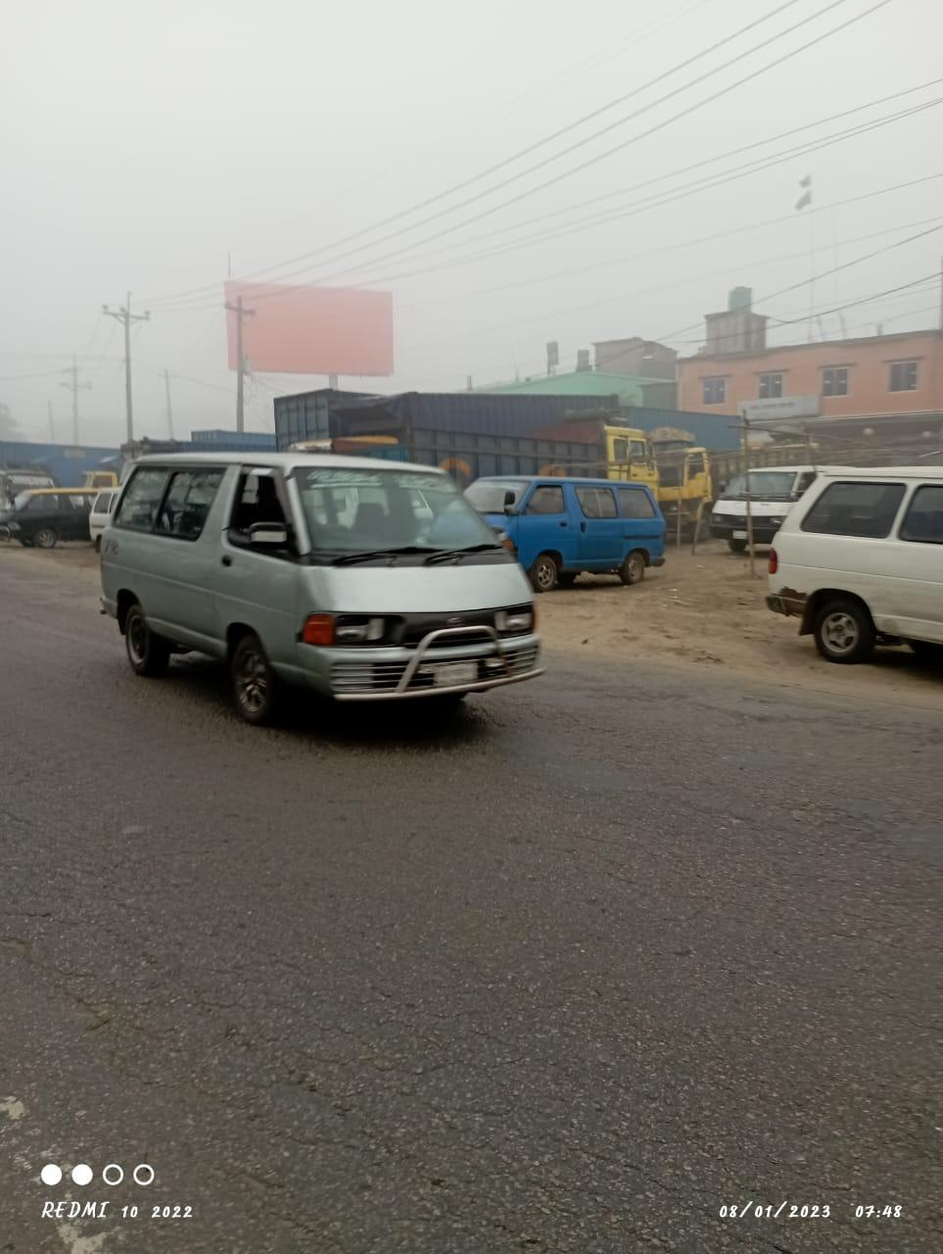Car: (87, 439, 553, 738), (772, 463, 943, 673), (474, 467, 674, 591), (711, 463, 809, 548), (4, 475, 75, 553)
